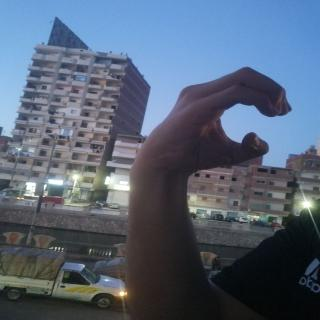JEEM: (118, 57, 309, 186)
